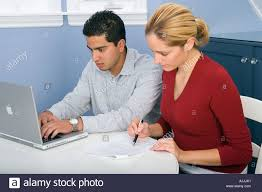Indian_Male: (61, 17, 117, 76)
